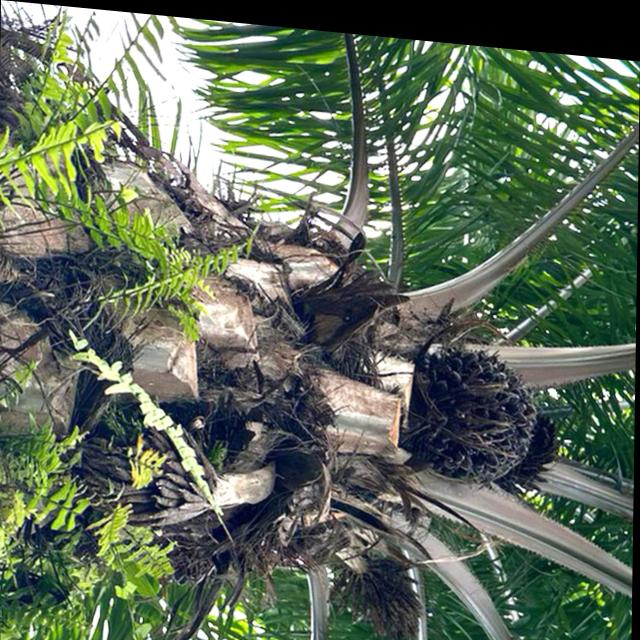ripe: (402, 323, 542, 484)
